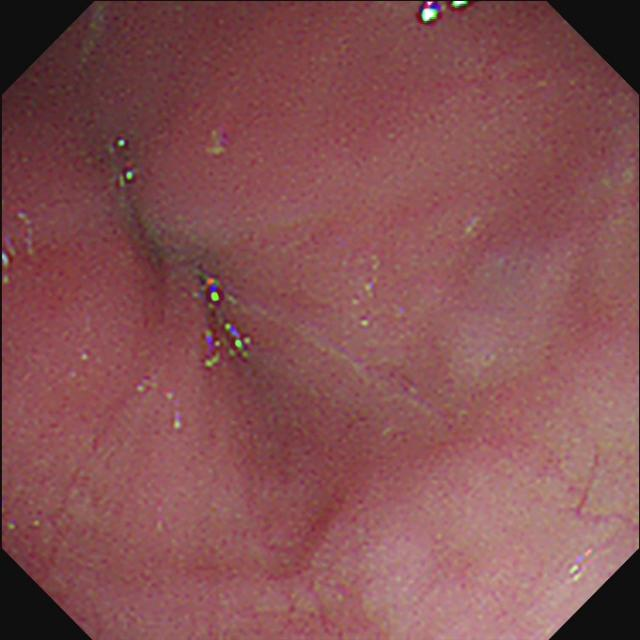U: (203, 277, 254, 372), (421, 2, 474, 27)
